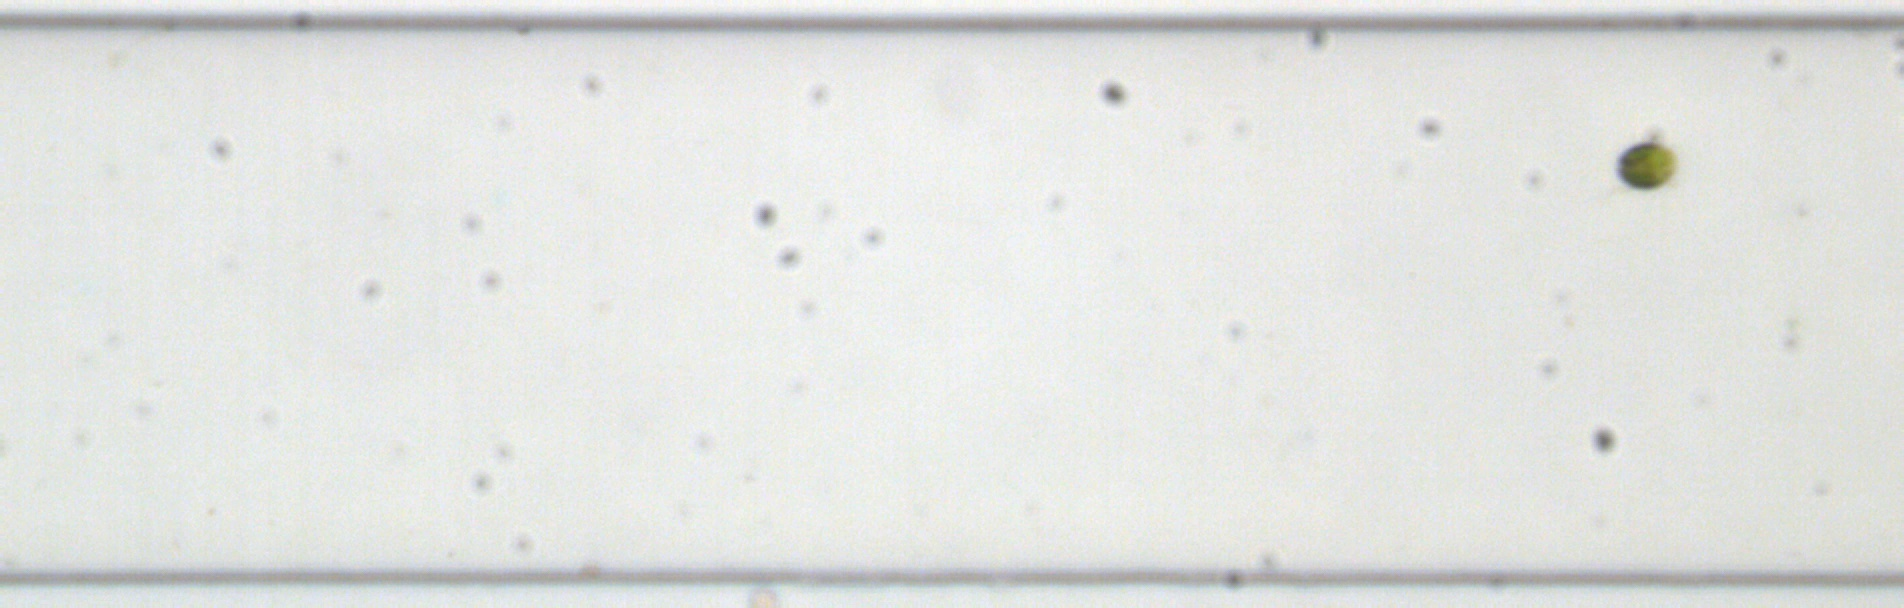Platymonas: (1613, 140, 1677, 191)
